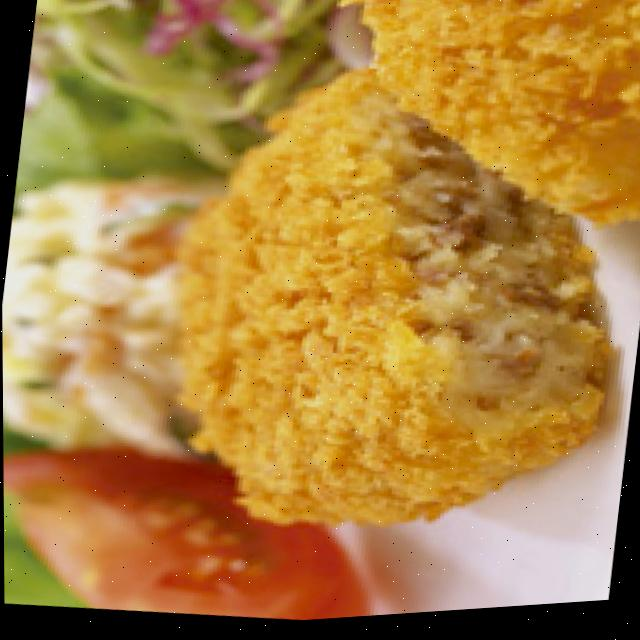炸货点心: (128, 34, 634, 573)
